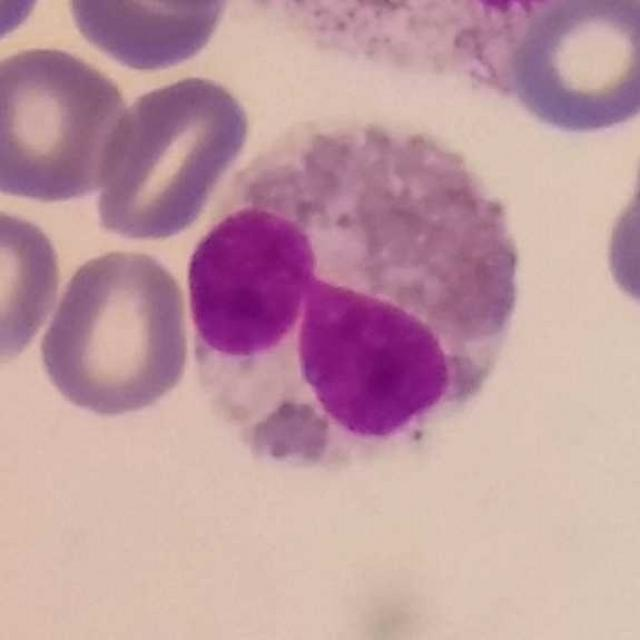Eosinophil: (176, 115, 532, 478)
RBC: (35, 243, 197, 424), (90, 70, 255, 245), (0, 41, 136, 206), (500, 0, 640, 141), (60, 0, 236, 73), (0, 199, 66, 370), (595, 126, 640, 330), (0, 0, 56, 57)
